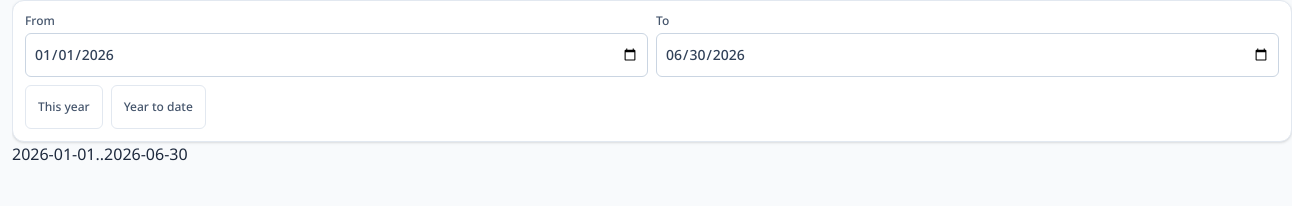
Test: DateRangeFilter › holds an inverted edit locally instead of committing it
Type "2025-01-01" into the date field labelled "To".
click(968, 55); type("2025-01-01")  # box [656,33,1279,77]
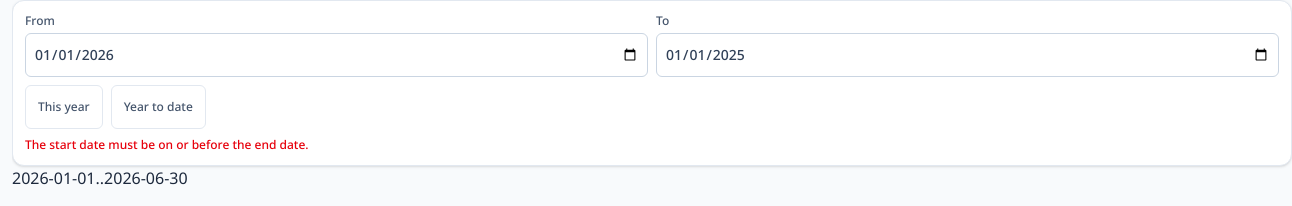
Check: the text with test id "committed" reads "2026-01-01..2026-06-30", box [12,167,188,189]
Check: the message reads "The start date must be on or before the end date.", box [25,136,309,153]
